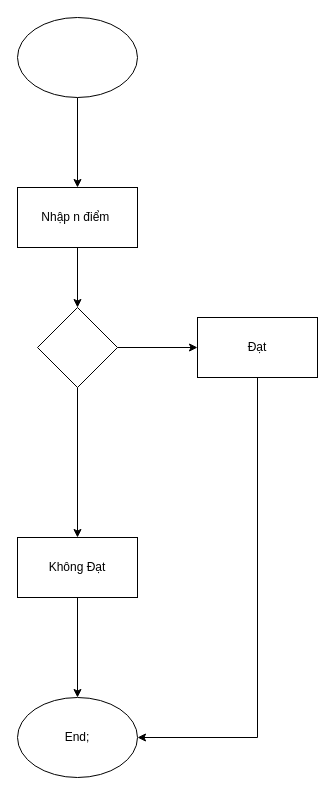
Some shapes in this 335 by 795 pixel diagram are drawn without their labels. Here are the shapes that lost their labels. From the top down, the centre of each, then its label:
At point (77, 57): "Start".
At point (77, 347): "n > 5".
